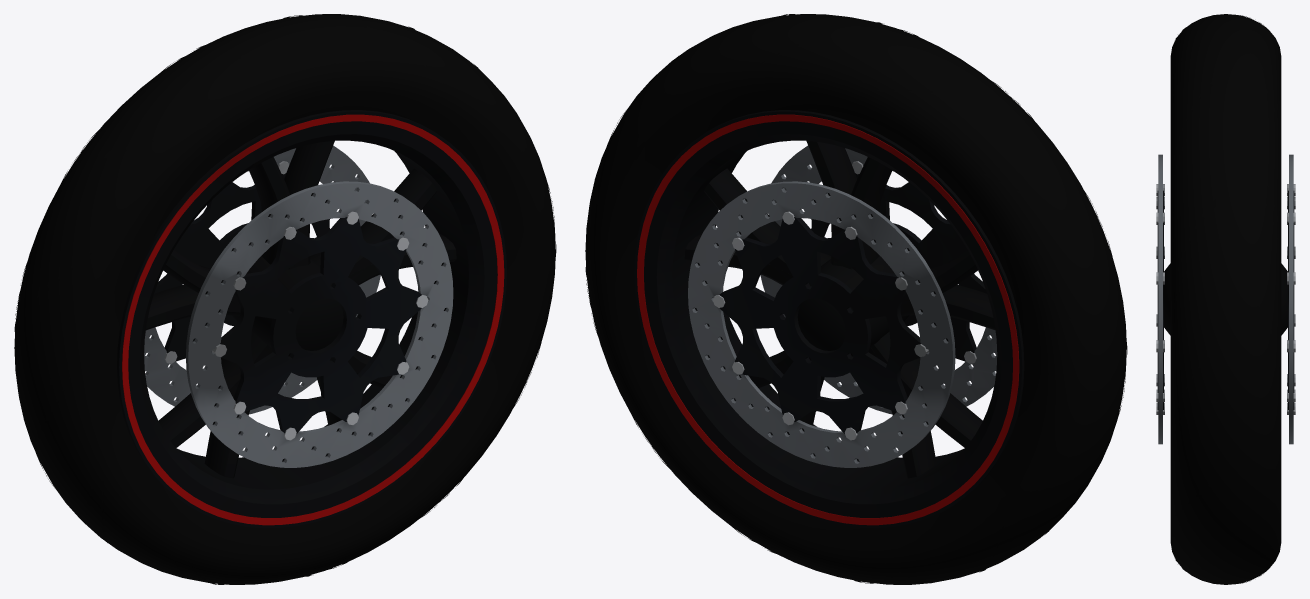
Rendered from bike_duetto_wheelF.glb.
3 views of the same model, side by side, from view 1: azimuth 30°, elevation 25°; view 2: azimuth 150°, elevation 25°; view 3: azimuth 270°, elevation 25° (orthographic). The views are drawn at different scales.
Visible parts, largest first — view 1: bk_wheelF_tyre, bk_wheelF_rim, bk_wheelF_disc0.07, bk_wheelF_carrier0.07, bk_wheelF_stripe1, bk_wheelF_carrier-0.07, bk_wheelF_disc-0.07, bk_wheelF_tread, bk_wheelF_hub, bk_wheelF_sp3_-1, bk_wheelF_sp1_-1, bk_wheelF_sp0_1 (+5 smaller); view 2: bk_wheelF_tyre, bk_wheelF_rim, bk_wheelF_disc-0.07, bk_wheelF_carrier-0.07, bk_wheelF_stripe-1, bk_wheelF_carrier0.07, bk_wheelF_disc0.07, bk_wheelF_tread, bk_wheelF_hub, bk_wheelF_sp3_-1, bk_wheelF_sp1_-1, bk_wheelF_sp0_1 (+5 smaller); view 3: bk_wheelF_tyre, bk_wheelF_tread, bk_wheelF_disc0.07, bk_wheelF_disc-0.07, bk_wheelF_hub, bk_wheelF_carrier0.07, bk_wheelF_carrier-0.07.
Boxes of the visible parts, bbox=[...] form: bk_wheelF_tyre: bbox=[14, 14, 555, 584]; bk_wheelF_rim: bbox=[117, 110, 506, 528]; bk_wheelF_disc0.07: bbox=[186, 181, 453, 467]; bk_wheelF_carrier0.07: bbox=[220, 217, 421, 433]; bk_wheelF_stripe1: bbox=[122, 114, 504, 525]; bk_wheelF_carrier-0.07: bbox=[154, 173, 330, 361]; bk_wheelF_disc-0.07: bbox=[144, 145, 380, 414]; bk_wheelF_tread: bbox=[14, 14, 556, 584]; bk_wheelF_hub: bbox=[232, 242, 343, 356]; bk_wheelF_sp3_-1: bbox=[158, 332, 272, 447]; bk_wheelF_sp1_-1: bbox=[284, 141, 334, 267]; bk_wheelF_sp0_1: bbox=[310, 168, 436, 279]; bk_wheelF_tyre: bbox=[585, 14, 1126, 584]; bk_wheelF_rim: bbox=[634, 110, 1024, 528]; bk_wheelF_disc-0.07: bbox=[688, 181, 955, 467]; bk_wheelF_carrier-0.07: bbox=[719, 217, 920, 433]; bk_wheelF_stripe-1: bbox=[637, 114, 1019, 525]; bk_wheelF_carrier0.07: bbox=[811, 173, 987, 361]; bk_wheelF_disc0.07: bbox=[760, 145, 997, 414]; bk_wheelF_tread: bbox=[585, 14, 1127, 584]; bk_wheelF_hub: bbox=[797, 242, 909, 356]; bk_wheelF_sp3_-1: bbox=[868, 331, 982, 447]; bk_wheelF_sp1_-1: bbox=[806, 141, 856, 267]; bk_wheelF_sp0_1: bbox=[704, 168, 830, 279]; bk_wheelF_tyre: bbox=[1170, 14, 1281, 584]; bk_wheelF_tread: bbox=[1173, 15, 1278, 584]; bk_wheelF_disc0.07: bbox=[1158, 154, 1162, 444]; bk_wheelF_disc-0.07: bbox=[1289, 154, 1293, 444]; bk_wheelF_hub: bbox=[1164, 263, 1287, 335]; bk_wheelF_carrier0.07: bbox=[1157, 190, 1163, 409]; bk_wheelF_carrier-0.07: bbox=[1288, 190, 1294, 409].
Bounding box in the file's own units: 0.63 × 0.63 × 0.1535.
